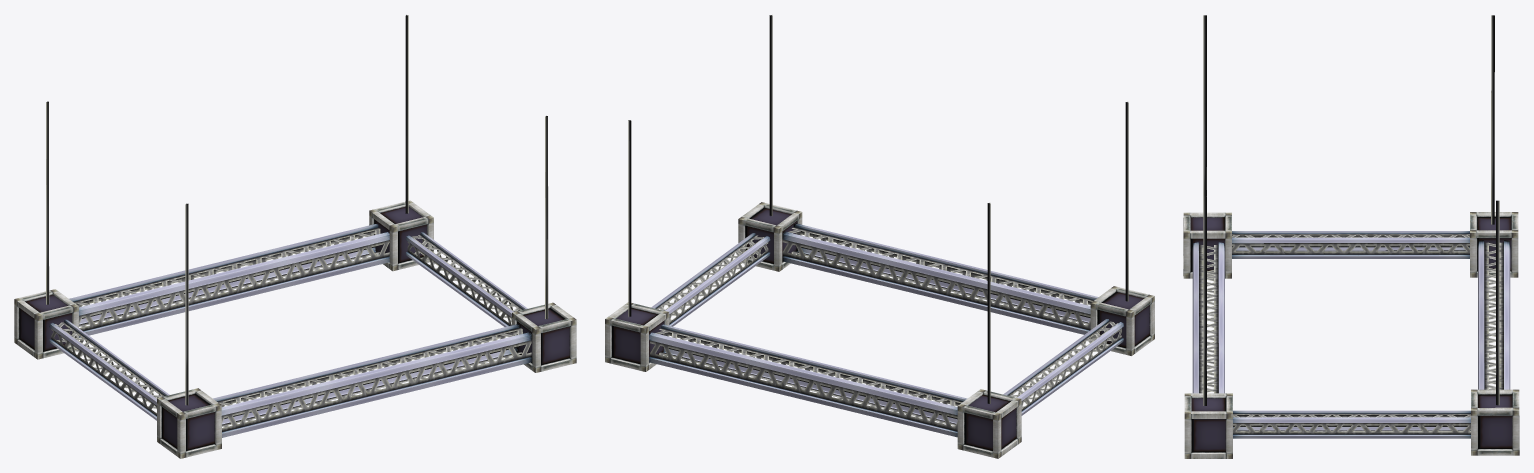
Rendered from industrial_rigging.DAE.
3 views of the same model, side by side, from view 1: azimuth 30°, elevation 25°; view 2: azimuth 150°, elevation 25°; view 3: azimuth 270°, elevation 25° (orthographic). The views are drawn at different scales.
Visible parts, largest first — view 1: Object01; view 2: Object01; view 3: Object01.
Boxes of the visible parts, x1,y1,x2,y2 form: Object01: (14,15,576,458); Object01: (605,15,1154,458); Object01: (1183,15,1519,458).
Size of the model in its own units: 5.56 by 3.24 by 3.91.
